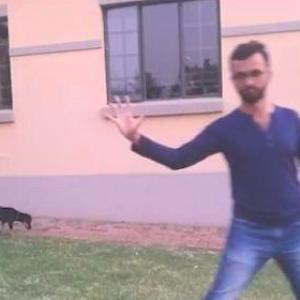follow_hand: (98, 88, 146, 139)
